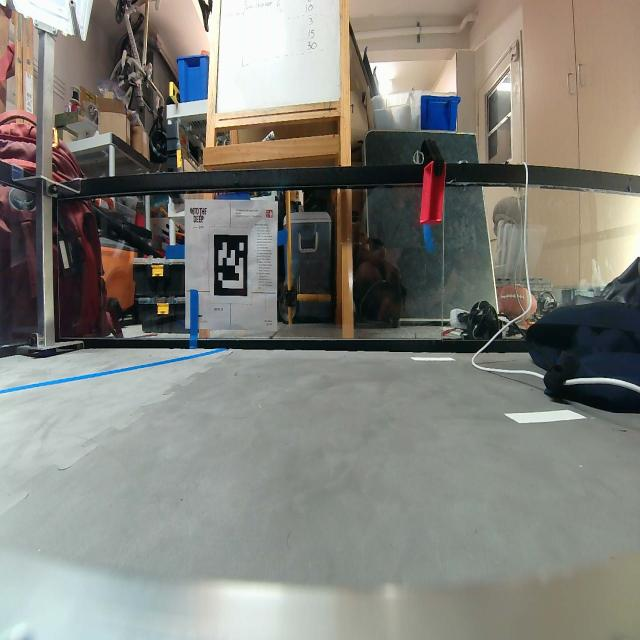specimen_block_red: (420, 157, 446, 227)
